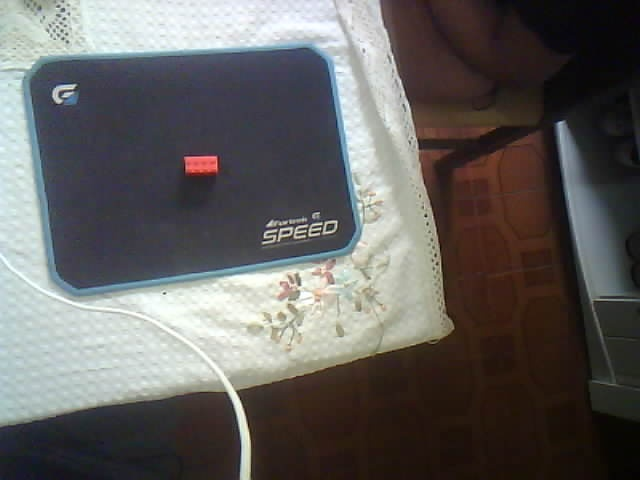lego: (182, 154, 219, 178)
